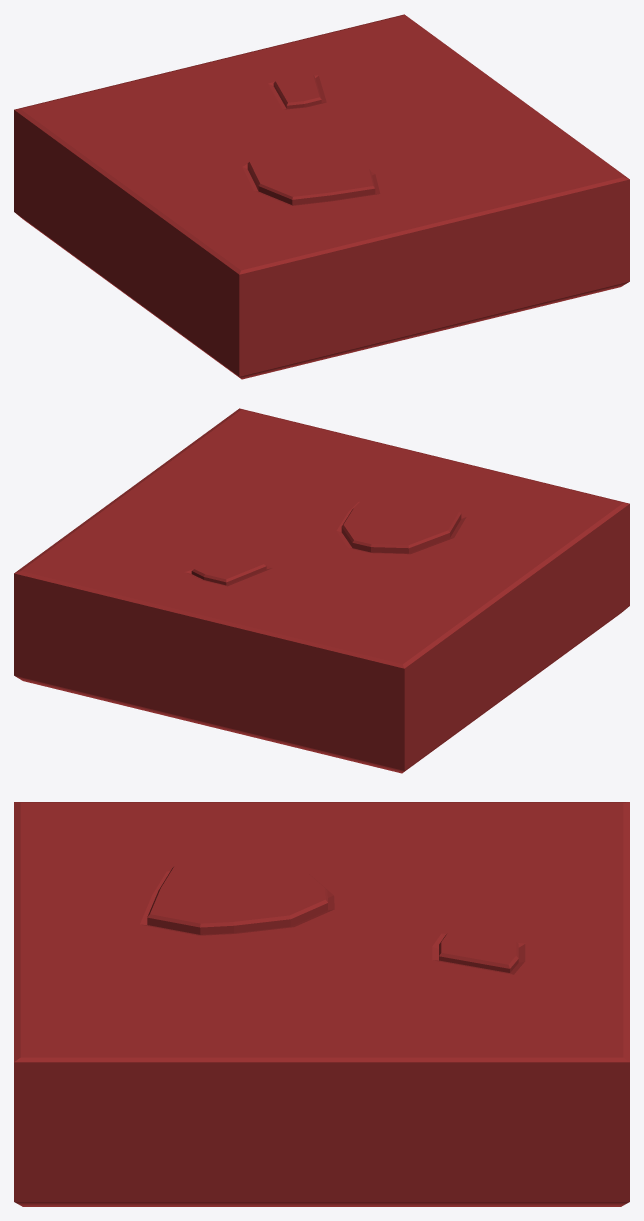
File: SM_C_FloorStone_01.fbx
3 views of the same model, one above another, from view 1: azimuth 30°, elevation 25°; view 2: azimuth 150°, elevation 25°; view 3: azimuth 270°, elevation 25° (orthographic). The views are drawn at different scales.
Visible parts, largest first — view 1: SM_C_FloorStone_01; view 2: SM_C_FloorStone_01; view 3: SM_C_FloorStone_01.
Part boxes in pixels (x1=…): SM_C_FloorStone_01: x1=14, y1=14, x2=629, y2=379; SM_C_FloorStone_01: x1=14, y1=408, x2=629, y2=773; SM_C_FloorStone_01: x1=14, y1=802, x2=629, y2=1206.
Bounding box in the file's own units: 800 × 227 × 800.
